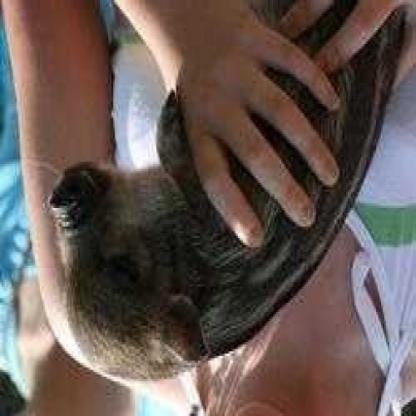boar: (6, 1, 415, 389)
